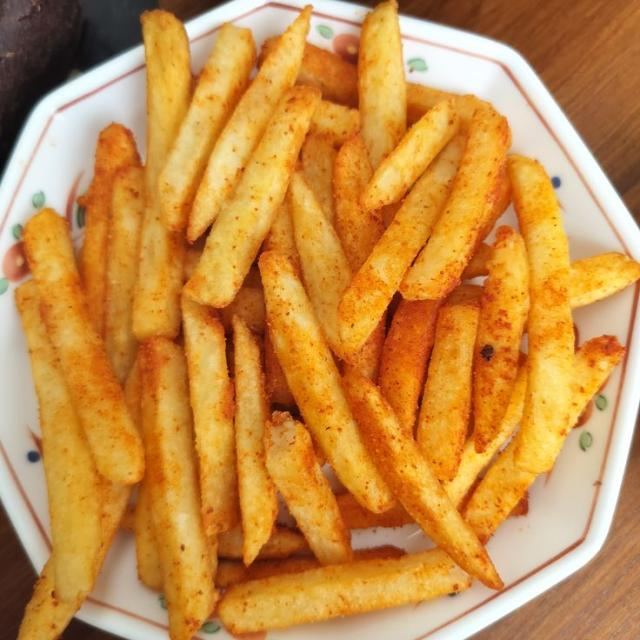potato fries: (16, 0, 639, 639), (260, 253, 394, 512), (345, 374, 502, 588), (24, 209, 144, 484), (185, 87, 319, 306), (187, 7, 311, 242), (16, 280, 101, 603), (339, 137, 465, 353), (140, 337, 217, 638), (400, 103, 510, 299), (219, 550, 471, 633), (508, 155, 573, 473), (159, 24, 255, 231), (134, 11, 191, 340), (182, 297, 238, 535), (265, 413, 352, 565), (80, 123, 139, 335), (443, 360, 526, 508), (474, 227, 528, 452), (288, 172, 351, 359), (417, 300, 479, 481), (233, 316, 278, 565), (362, 100, 459, 210), (379, 300, 441, 437), (105, 167, 144, 384), (358, 0, 406, 169), (465, 432, 537, 540), (334, 135, 384, 272), (18, 557, 83, 639), (569, 253, 639, 309), (297, 43, 358, 107), (297, 43, 358, 106), (570, 253, 639, 308), (216, 556, 320, 589), (300, 132, 336, 224), (134, 480, 163, 591), (134, 479, 162, 591), (262, 198, 299, 271), (336, 494, 413, 529), (220, 280, 265, 334), (264, 331, 294, 407), (310, 100, 359, 146), (407, 83, 459, 125), (259, 527, 308, 559), (462, 242, 492, 280)
